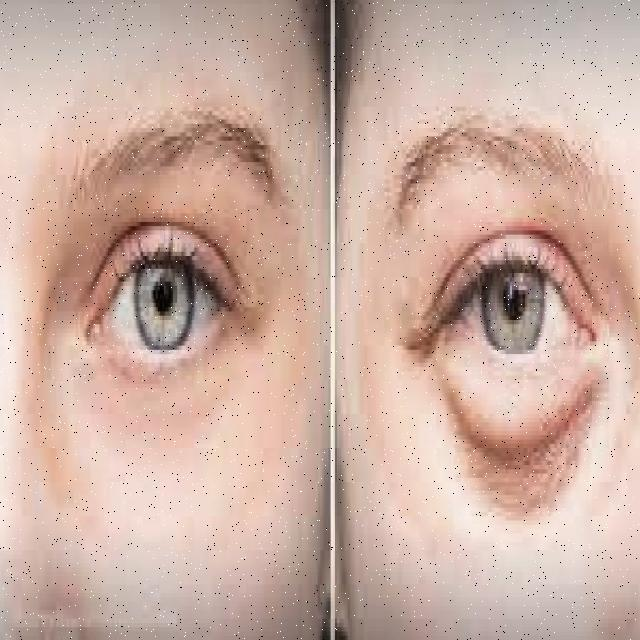puffy_eyes: (413, 373, 600, 510)
